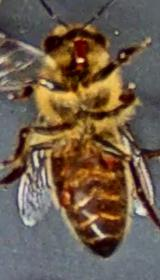varroa_mite: (48, 180, 84, 213)
